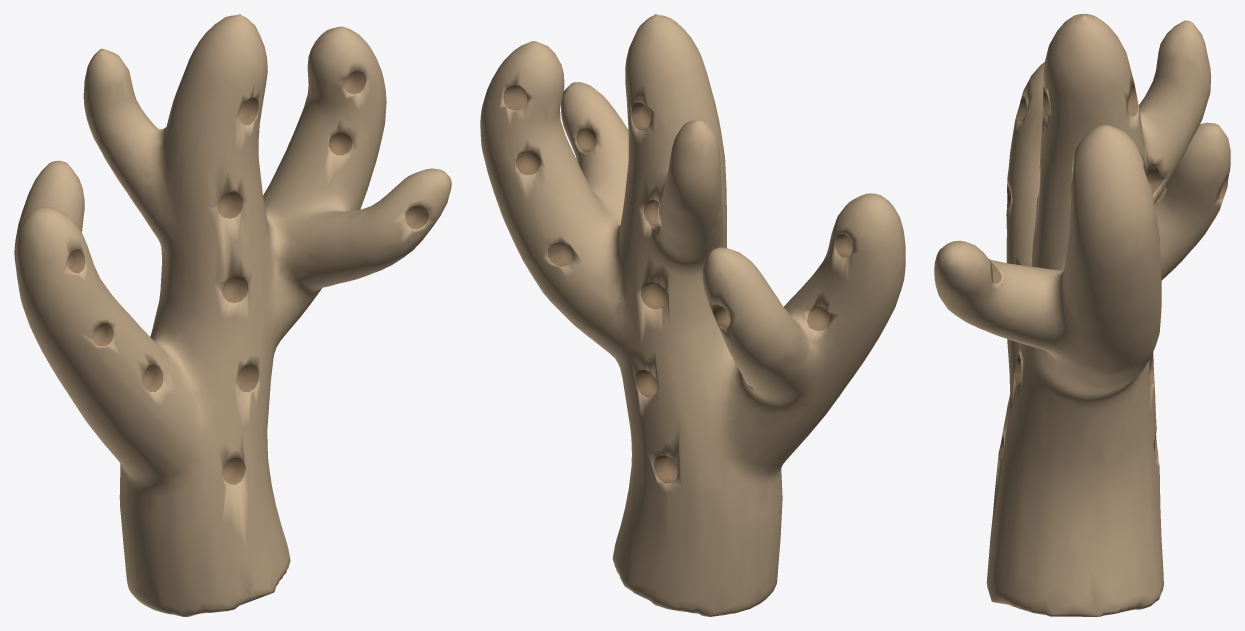
The model's file is thamnopora.glb.
3 renders of one model, left to right at view 1: azimuth 30°, elevation 25°; view 2: azimuth 150°, elevation 25°; view 3: azimuth 270°, elevation 25°, orthographic. The views are drawn at different scales.
Visible parts, largest first — view 1: softly-fused-growing-fingers; view 2: softly-fused-growing-fingers; view 3: softly-fused-growing-fingers.
Part boxes in pixels (box(x1,y1,x2,y2)): softly-fused-growing-fingers: box(14, 14, 451, 616); softly-fused-growing-fingers: box(480, 14, 905, 616); softly-fused-growing-fingers: box(934, 14, 1230, 616).
Size of the model in its own units: 0.1432 by 0.2 by 0.0882.
